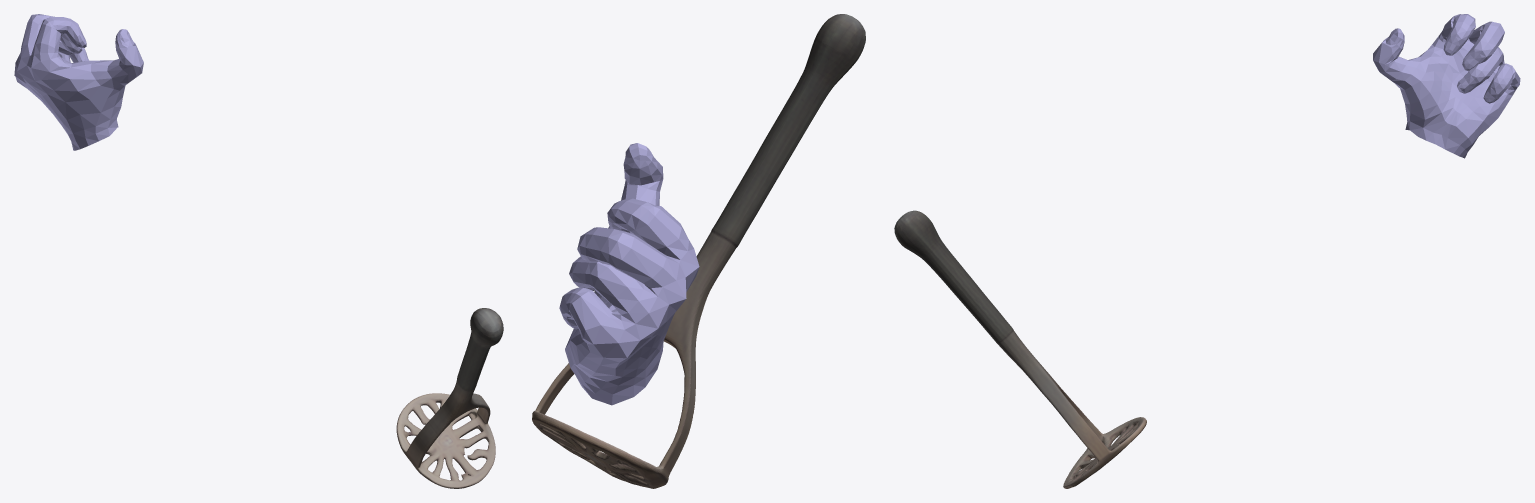
The model's file is frame_0097_source_000097_hand_object.glb.
3 renders of one model, left to right at view 1: azimuth 30°, elevation 25°; view 2: azimuth 150°, elevation 25°; view 3: azimuth 270°, elevation 25°, orthographic. The views are drawn at different scales.
Visible parts, largest first — view 1: world; view 2: world; view 3: world.
Boxes of the visible parts, x1,y1,x2,y2 form: world: [14, 14, 503, 488]; world: [532, 14, 865, 488]; world: [894, 14, 1520, 488].
Size of the model in its own units: 0.256 by 0.3273 by 0.4979.
